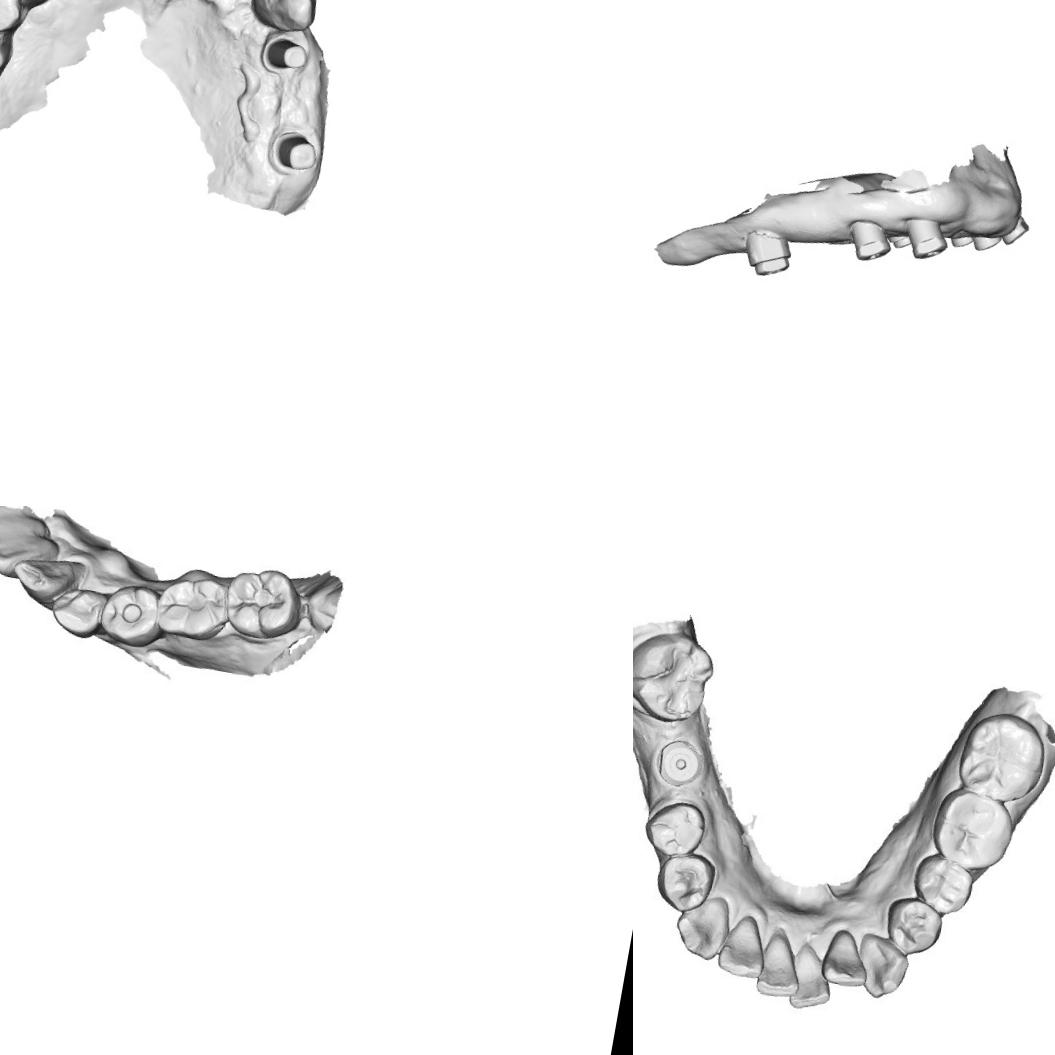abutment: (264, 125, 324, 179), (258, 30, 312, 78)
canine: (12, 550, 90, 608), (671, 888, 730, 962), (856, 934, 911, 994), (249, 0, 324, 36)
implant: (651, 728, 705, 790), (738, 224, 795, 282), (897, 212, 952, 264), (842, 214, 895, 266), (1000, 211, 1032, 249), (970, 231, 1004, 256), (950, 230, 976, 250)
incisor: (714, 906, 776, 980), (784, 940, 840, 1013), (756, 930, 808, 998), (818, 922, 871, 988), (0, 522, 59, 578)
molar: (633, 626, 727, 727), (959, 707, 1044, 807), (932, 786, 1016, 872), (220, 563, 298, 644), (154, 571, 236, 647)
premolar: (654, 847, 718, 915), (641, 795, 708, 858), (100, 582, 164, 645), (914, 853, 976, 914), (51, 578, 110, 642), (885, 897, 947, 956)
